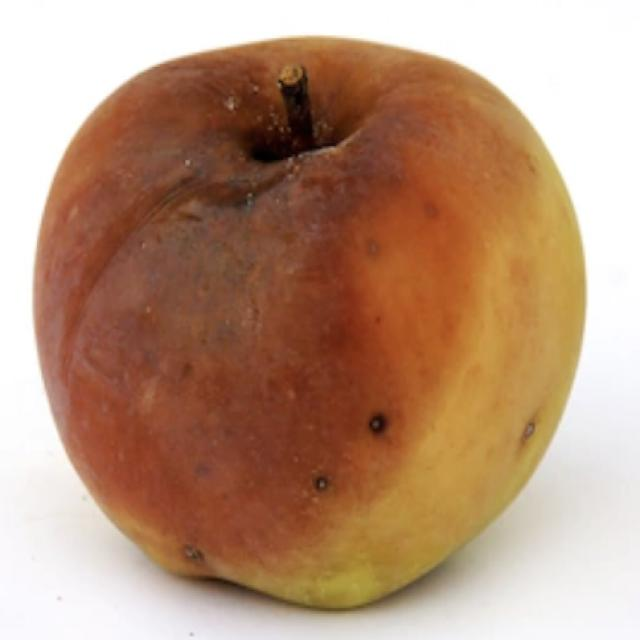rotten_apple: (37, 34, 588, 607)
